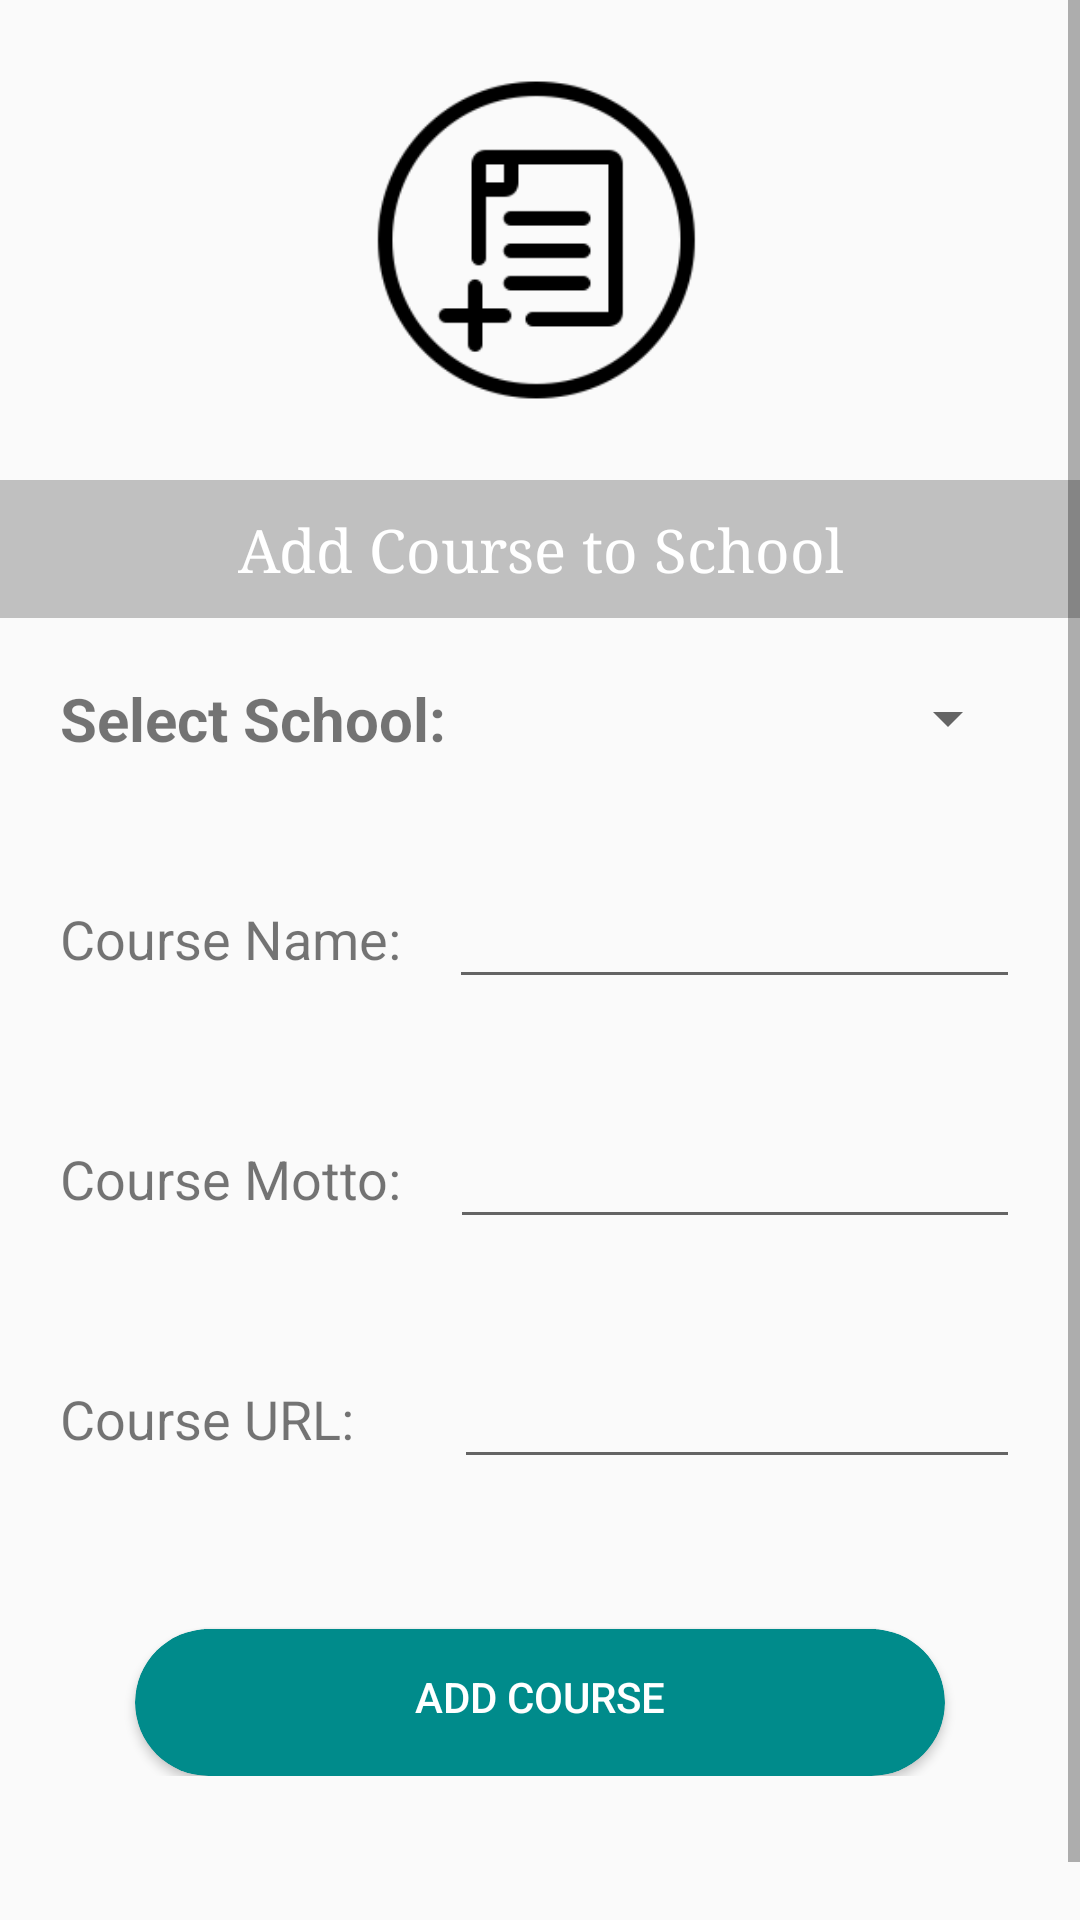

Point at icon controls on the screen. Image size 1080×1920, points as [x,y].
addinfo: [536,240]
